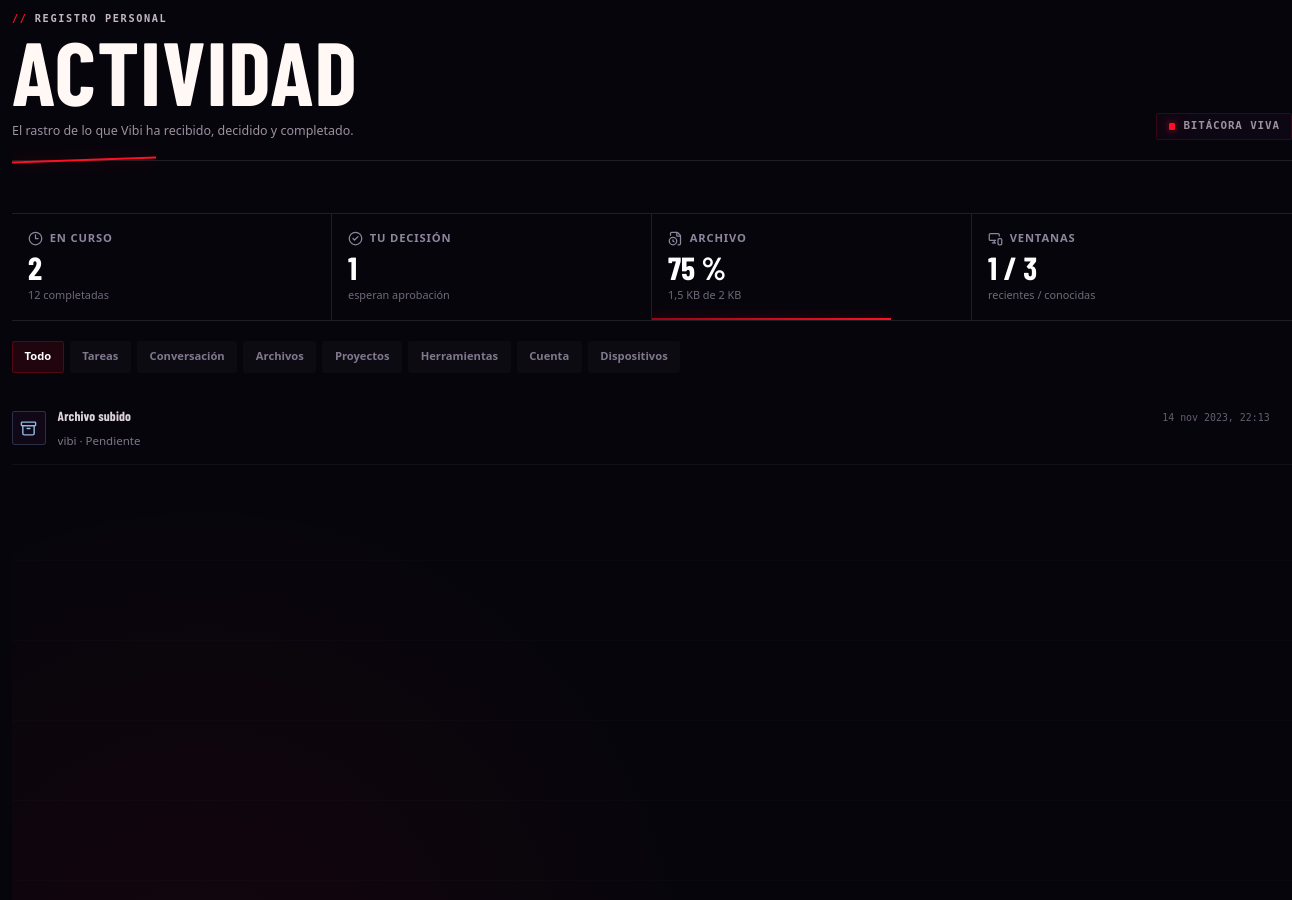
Test: ActivityPage › muestra el pulso, filtra y pagina la bitácora sin perder eventos
Expected: the heading "Actividad" is shown, x1=12 y1=33 x2=358 y2=108
Expected: the text "En curso" is shown, x1=28 y1=230 x2=113 y2=246
What coordinates should you click on to do the following:
click the button "Tareas"
I would click on:
 (100, 356)
Its box is x1=70 y1=340 x2=131 y2=372.
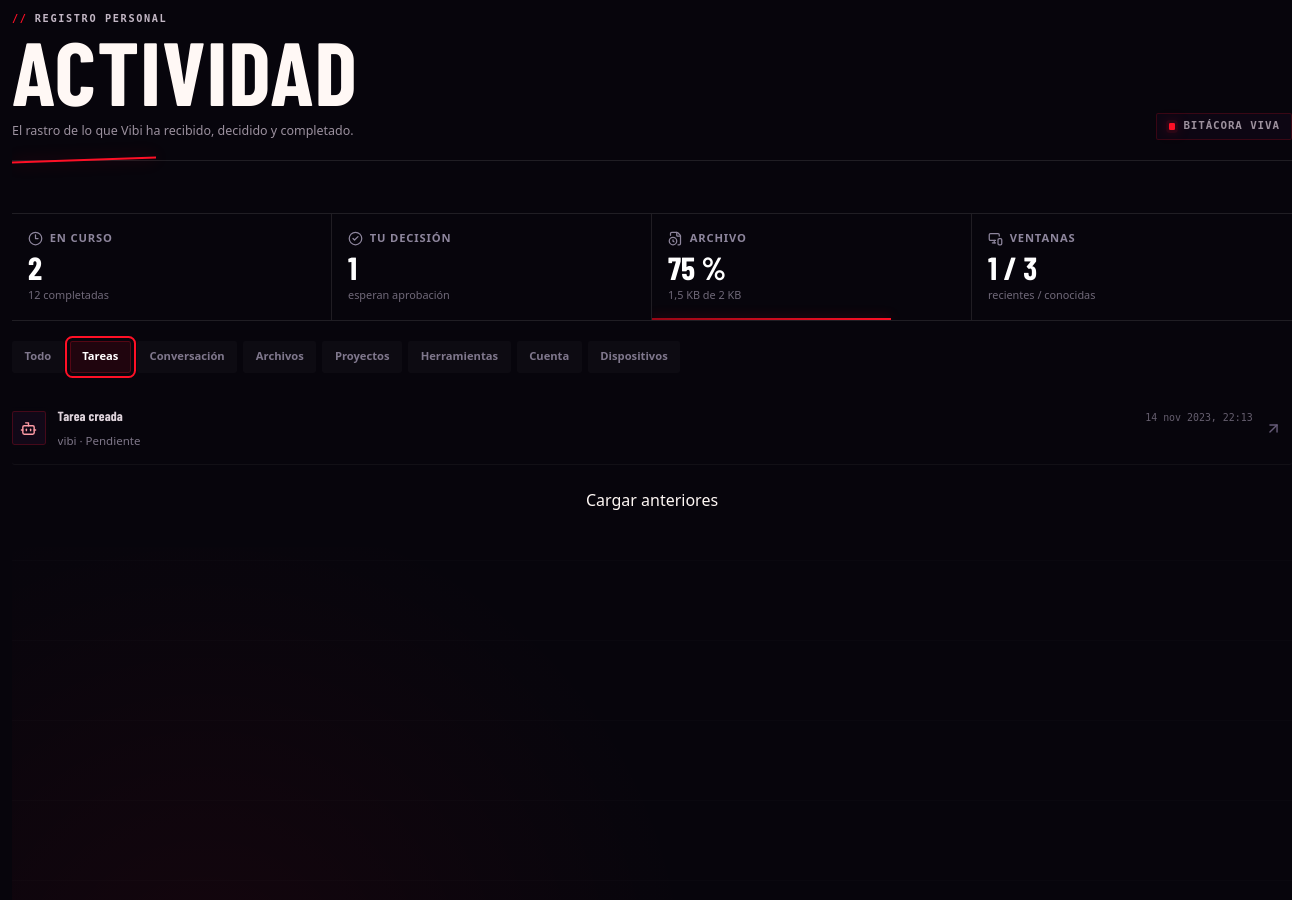
Expected: the heading "Tarea creada" is shown, x1=58 y1=407 x2=123 y2=427
What coordinates should you click on to do the following:
click the button "Cargar anteriores"
I would click on:
 (652, 500)
Its box is x1=586 y1=488 x2=718 y2=512.
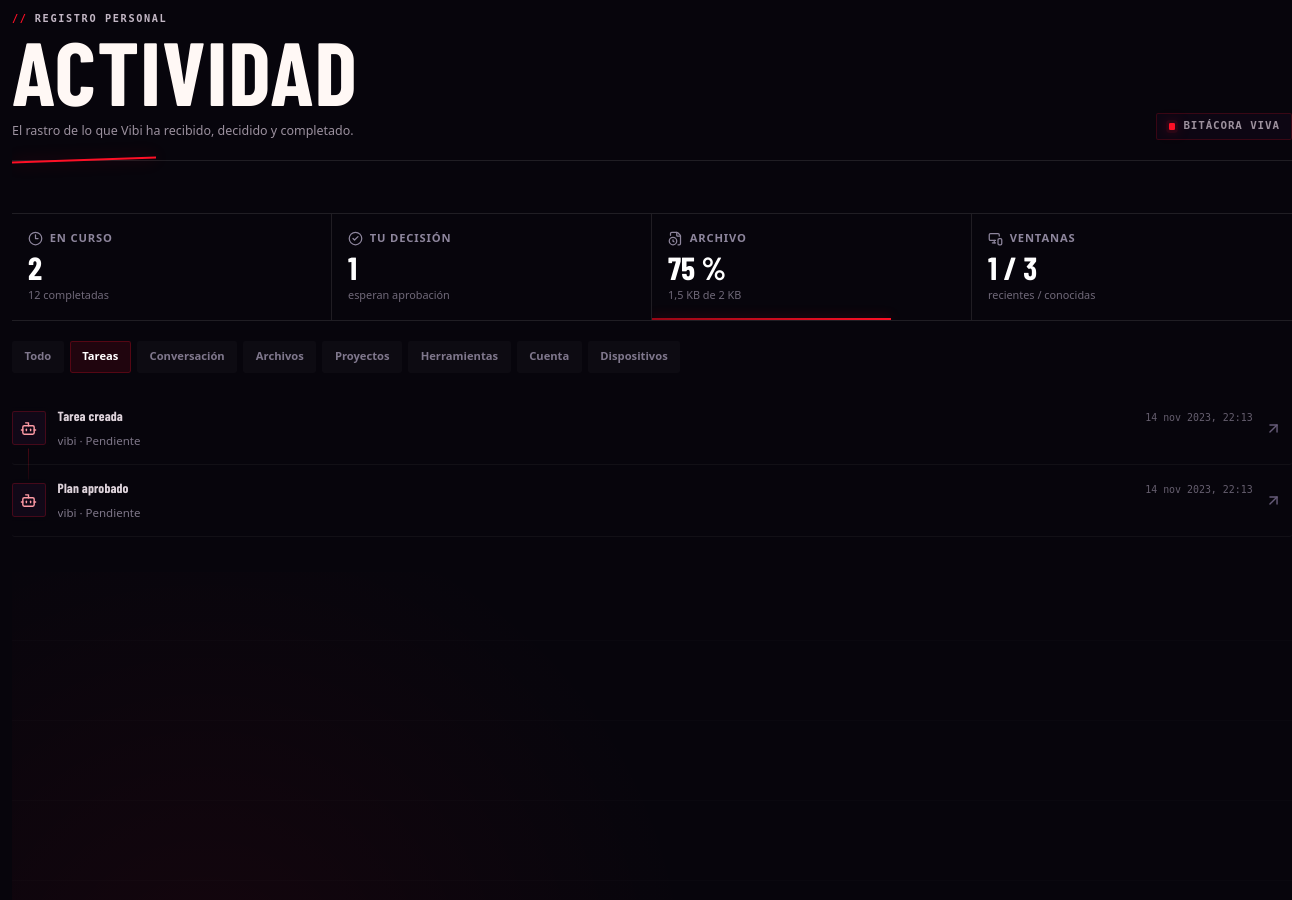
Expected: the heading "Tarea creada" is shown, x1=58 y1=407 x2=123 y2=427
Expected: the heading "Plan aprobado" is shown, x1=58 y1=479 x2=129 y2=499
Expected: the button "Cargar anteriores" is gone
